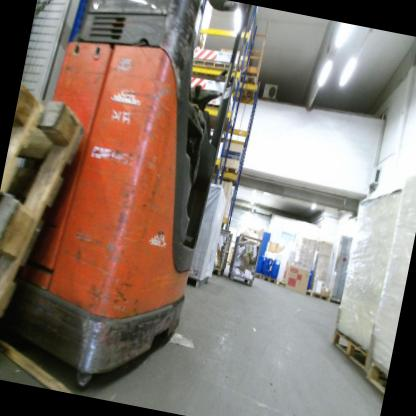pallet: (0, 70, 99, 384), (0, 66, 55, 235), (326, 325, 373, 378), (185, 53, 241, 93), (359, 348, 391, 397), (234, 67, 260, 102), (202, 102, 231, 117), (310, 288, 329, 302), (260, 272, 277, 285), (326, 295, 342, 305), (275, 277, 289, 286), (304, 285, 313, 298), (254, 271, 262, 278)
stillage: (226, 230, 263, 286), (209, 225, 235, 279)
